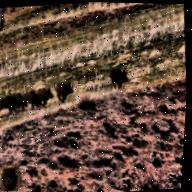boar: (109, 56, 134, 89), (53, 74, 76, 105), (0, 89, 21, 116), (24, 86, 43, 112), (40, 82, 56, 106), (16, 88, 26, 104)
